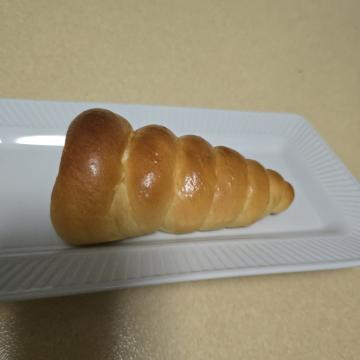cream horn: (92, 51, 283, 324)
